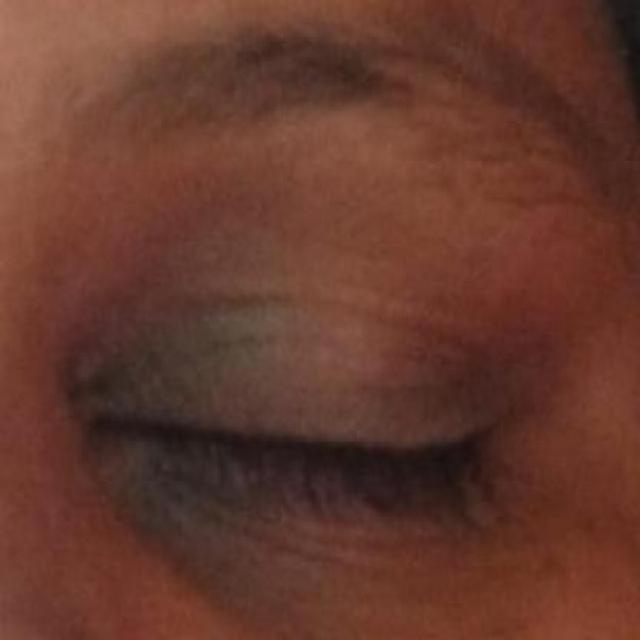drowsy: (97, 269, 495, 640)
